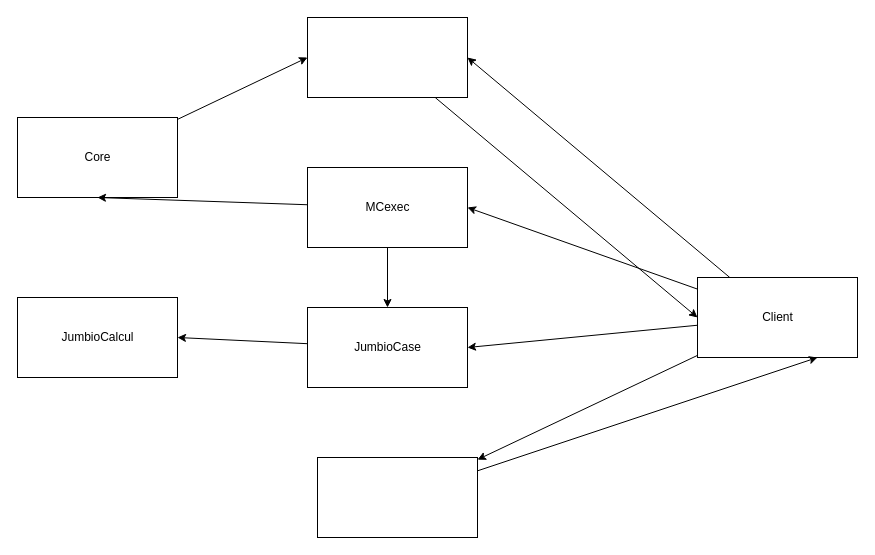
Image size: 875x555. Some labels were removed from this diagram. The shapes that lost their labels are listed below. From the top down, each one's centre as x and y in pixels, then its label:
At [387,57]: "MCResults".
At [397,497]: "Jumbioresults".
